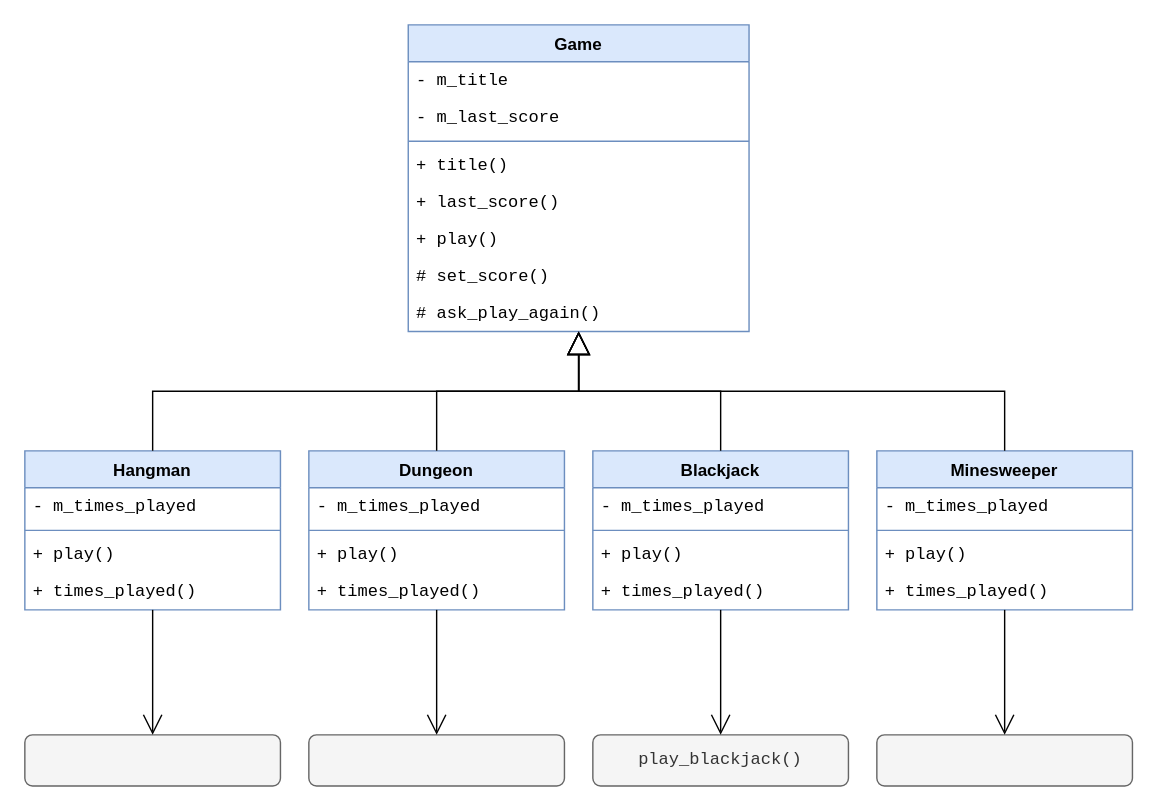
The diagram is 1157 pixels wide and 811 high, and some of its shapes have lost their labels. Here are the shapes that lost their labels. From the top down, the centre of each, then its label:
At [151,759]: "play_hangman()".
At [435,759]: "play_dungeon()".
At [1003,759]: "play_minesweeper()".
